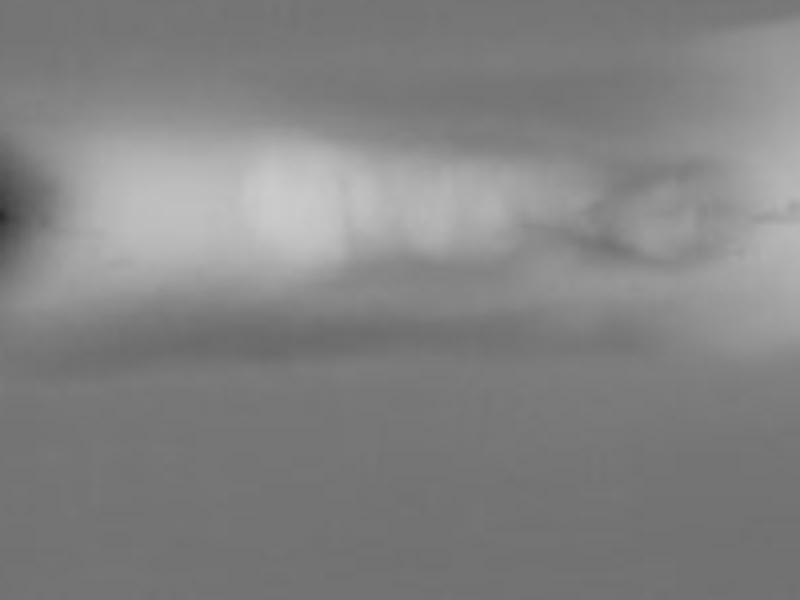defect: (2, 149, 20, 255)
